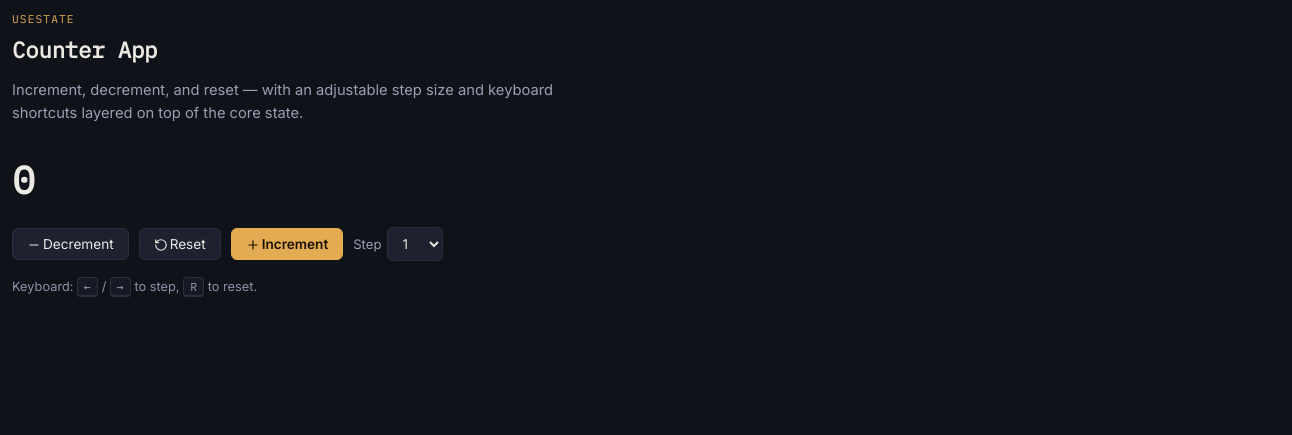
Scenario: Task5_CounterApp › decrements the count
Click the button "Decrement": {"x": 70, "y": 244} top-left (12, 228), bottom-right (129, 260)
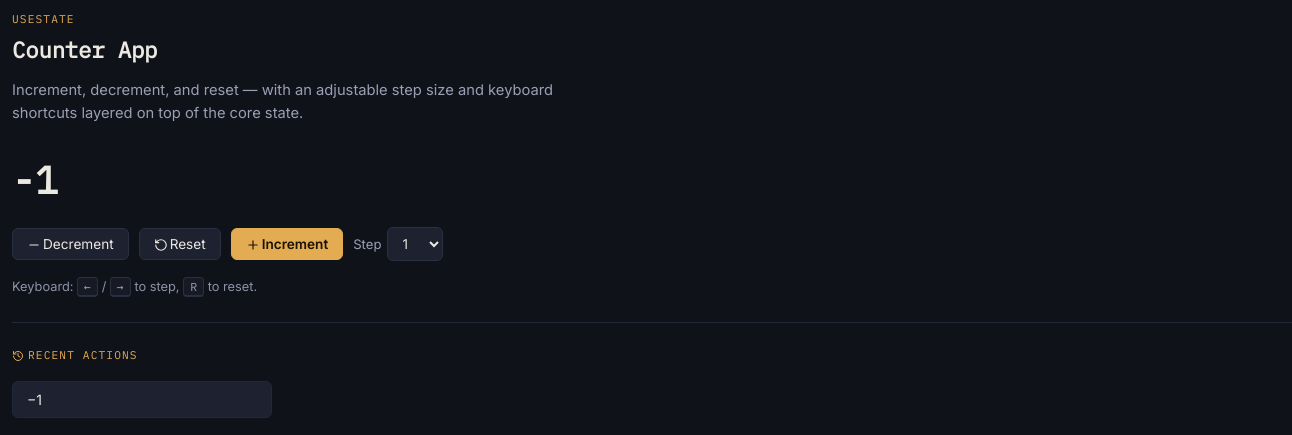
Now the text "-1" is shown, box top-left (12, 155), bottom-right (58, 205)
